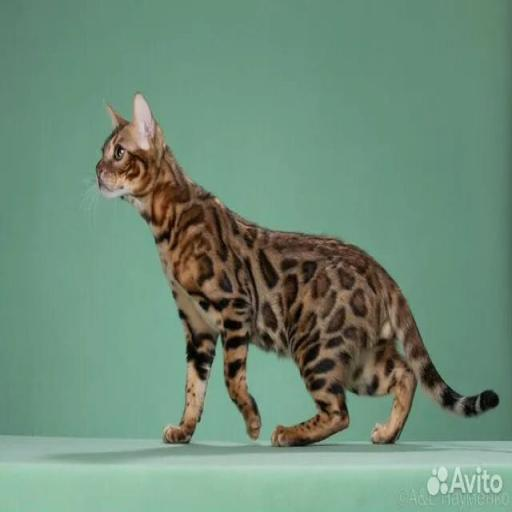cats: (95, 93, 498, 446)
